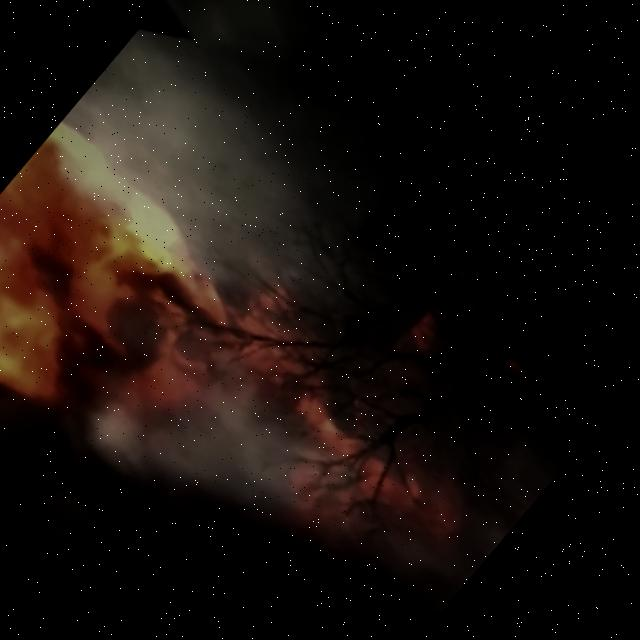Fire: (0, 117, 275, 502)
Smoke: (47, 0, 445, 320), (0, 296, 340, 640), (79, 357, 444, 635)
